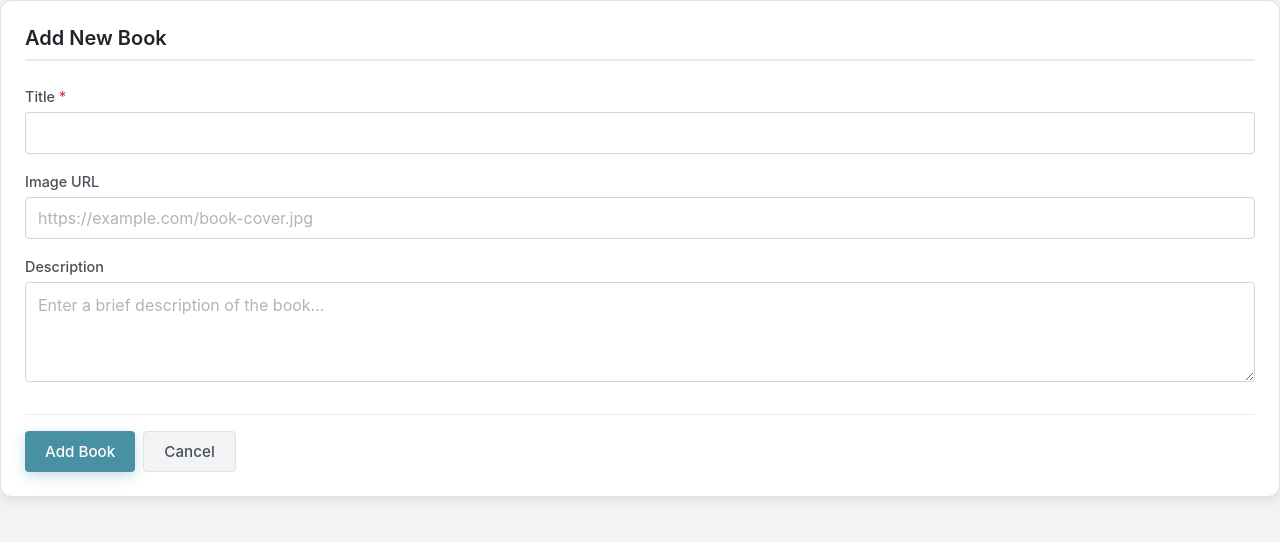
Test case: BookForm › clears error when user starts typing in title field
This screenshot has width=1280, height=542.
Submit empty form to trigger error
Click the button "Add Book". click: (80,451)
box: [25,431,135,472]
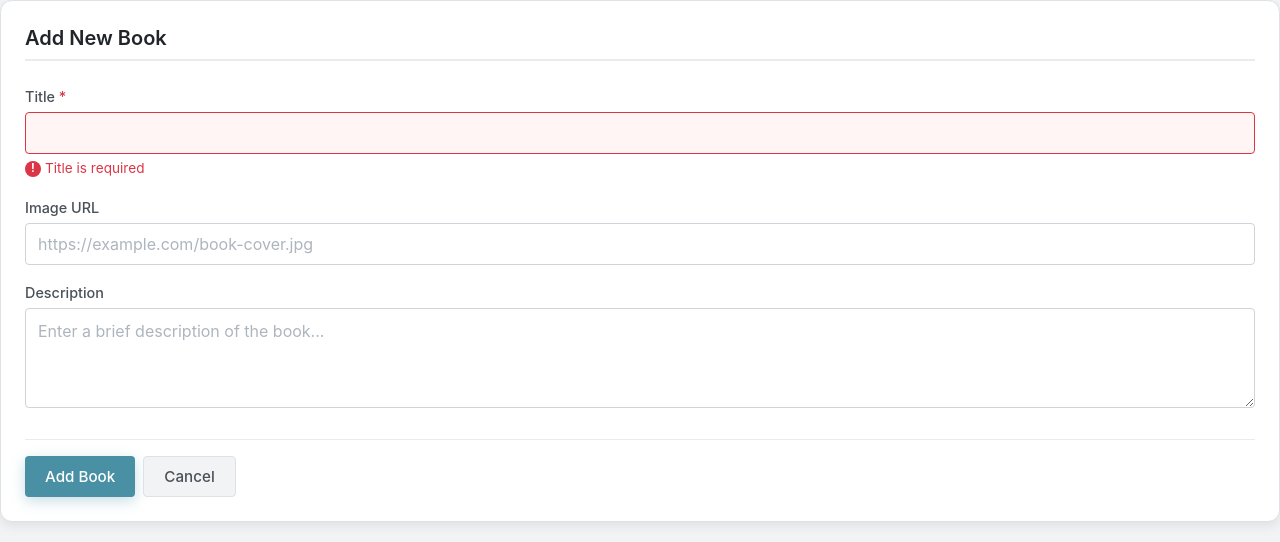
Expected: the message "Title is required" is shown, [45,160,144,176]
Start typing in title field
Type "N" into the field labelled "Title *". click: (640,133)
box: [25,112,1255,154]
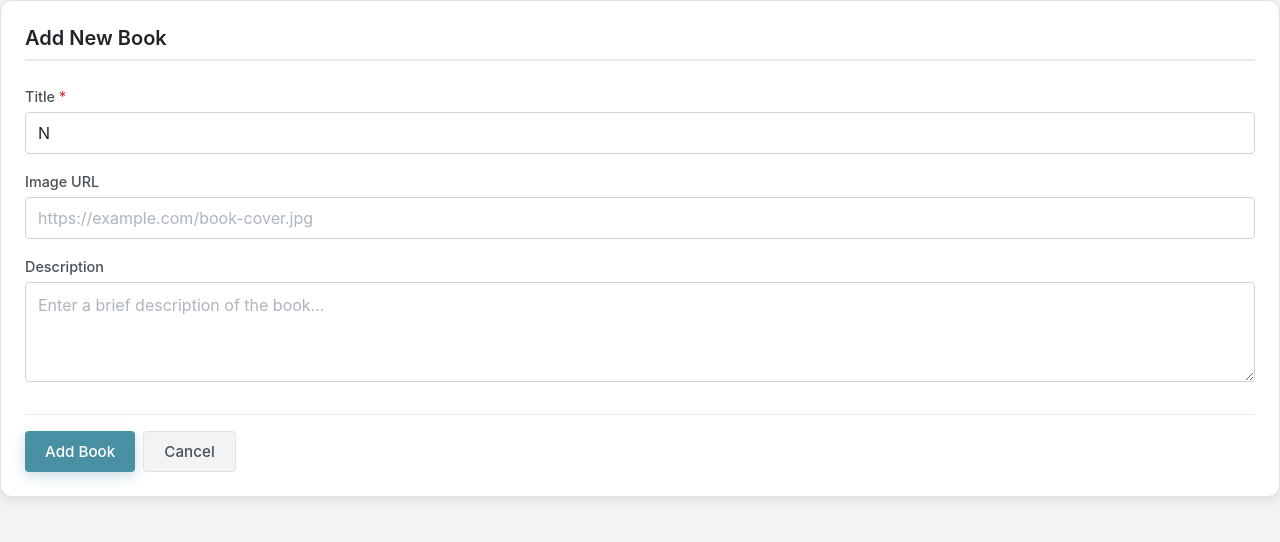
Expected: the message "Title is required" is gone
